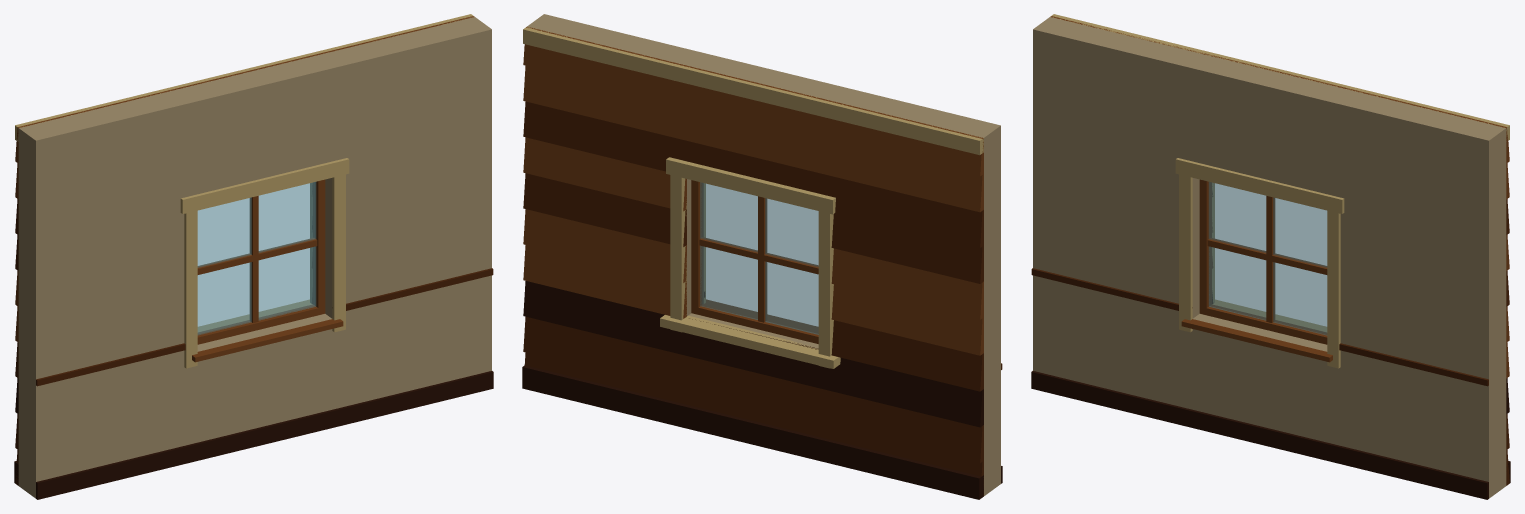
File: SM_Bld_Wall_Window_DoubleBar.glb
3 views of the same model, side by side, from view 1: azimuth 30°, elevation 25°; view 2: azimuth 150°, elevation 25°; view 3: azimuth 330°, elevation 25° (orthographic).
Parts seen in each view (by area): view 1: SM_Bld_Wall_Window_DoubleBar; view 2: SM_Bld_Wall_Window_DoubleBar; view 3: SM_Bld_Wall_Window_DoubleBar.
Part boxes in pixels (x1=…): SM_Bld_Wall_Window_DoubleBar: x1=14, y1=14, x2=493, y2=499; SM_Bld_Wall_Window_DoubleBar: x1=522, y1=14, x2=1002, y2=499; SM_Bld_Wall_Window_DoubleBar: x1=1031, y1=14, x2=1510, y2=499.
Size of the model in its own units: 4 by 3 by 0.47.
Materials: 2 (2 with a texture image).
